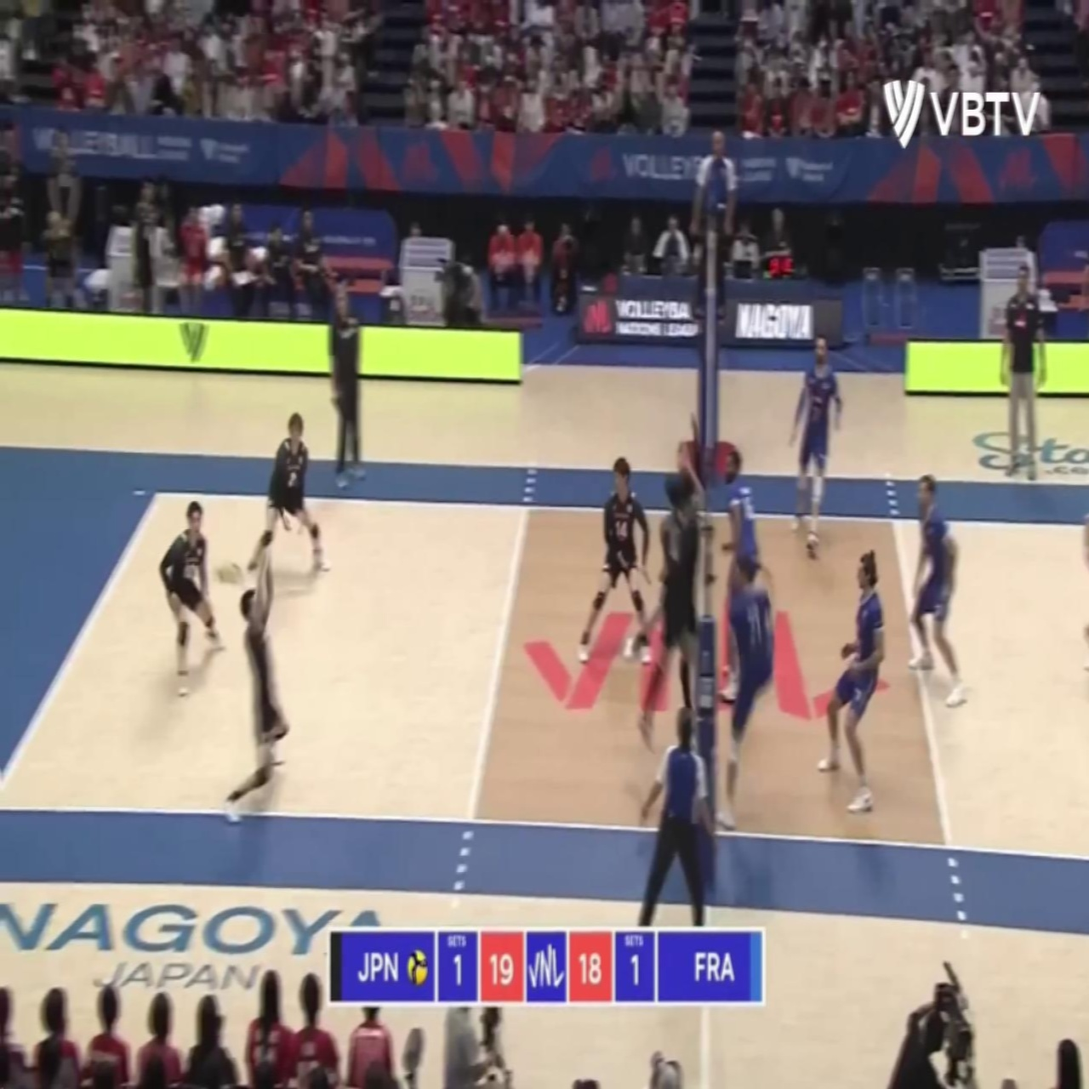ball: (210, 557, 244, 585)
